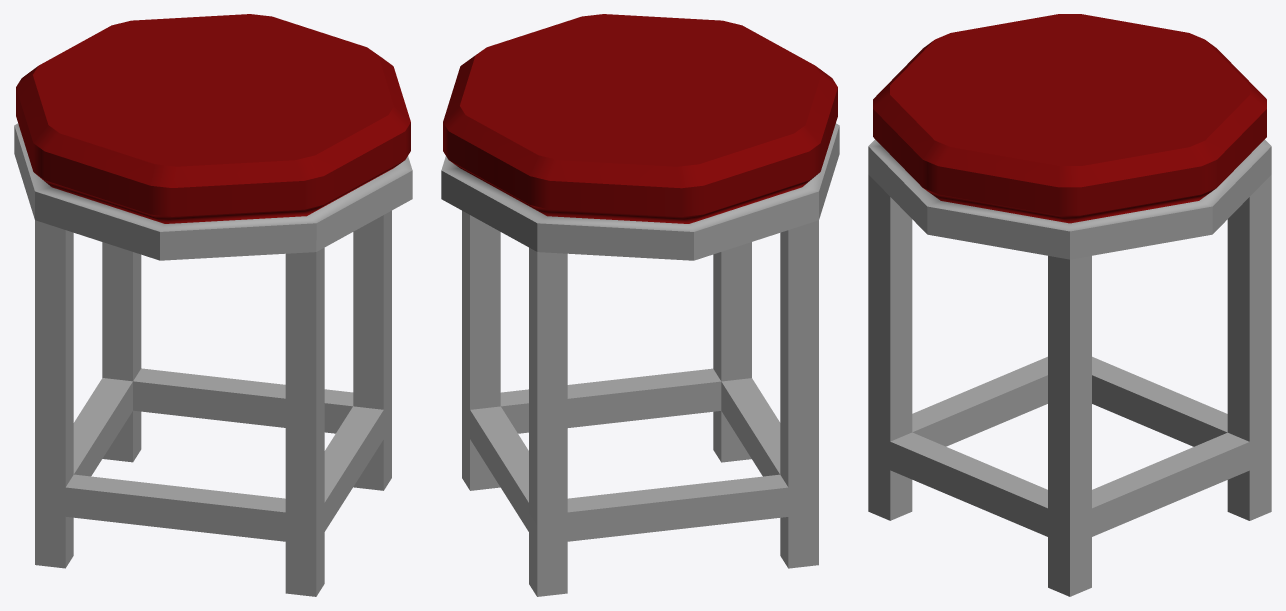
The model's file is Stool0185.fbx.
The picture shows the model from 3 angles, left to right: view 1: azimuth 30°, elevation 25°; view 2: azimuth 150°, elevation 25°; view 3: azimuth 270°, elevation 25°; orthographic projection. The views are drawn at different scales.
Visible parts, largest first — view 1: pCylinder5; view 2: pCylinder5; view 3: pCylinder5.
Part boxes in pixels (x1,y1,x2,y2): pCylinder5: (14, 14, 412, 596); pCylinder5: (441, 14, 839, 596); pCylinder5: (868, 14, 1271, 596).
Size of the model in its own units: 73.12 by 84.38 by 73.12.
